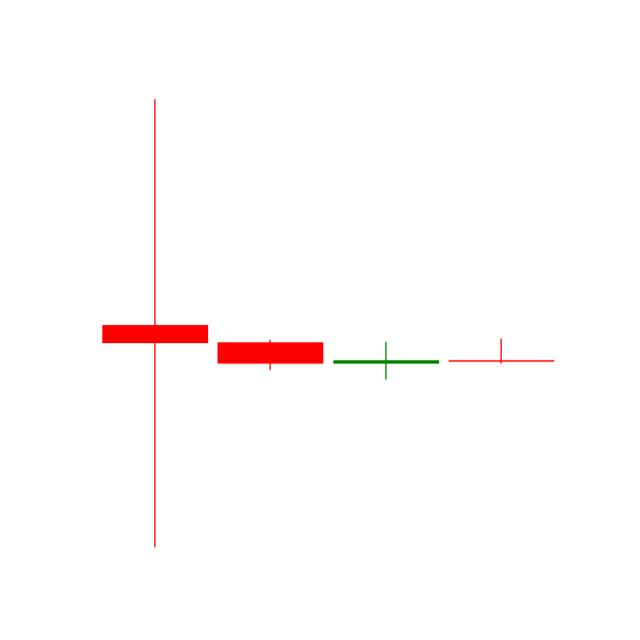Gravenstone Doji: (447, 336, 555, 366)
High Wave: (100, 97, 210, 550)
Standard Doji: (330, 340, 440, 380)
spinning top: (215, 335, 324, 373)
